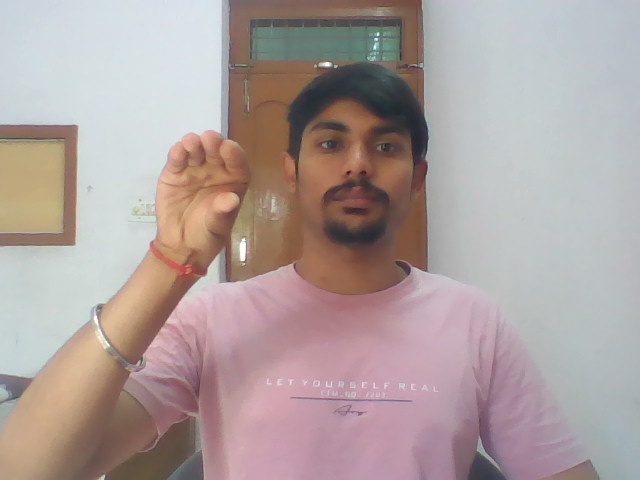No: (130, 121, 265, 245)
